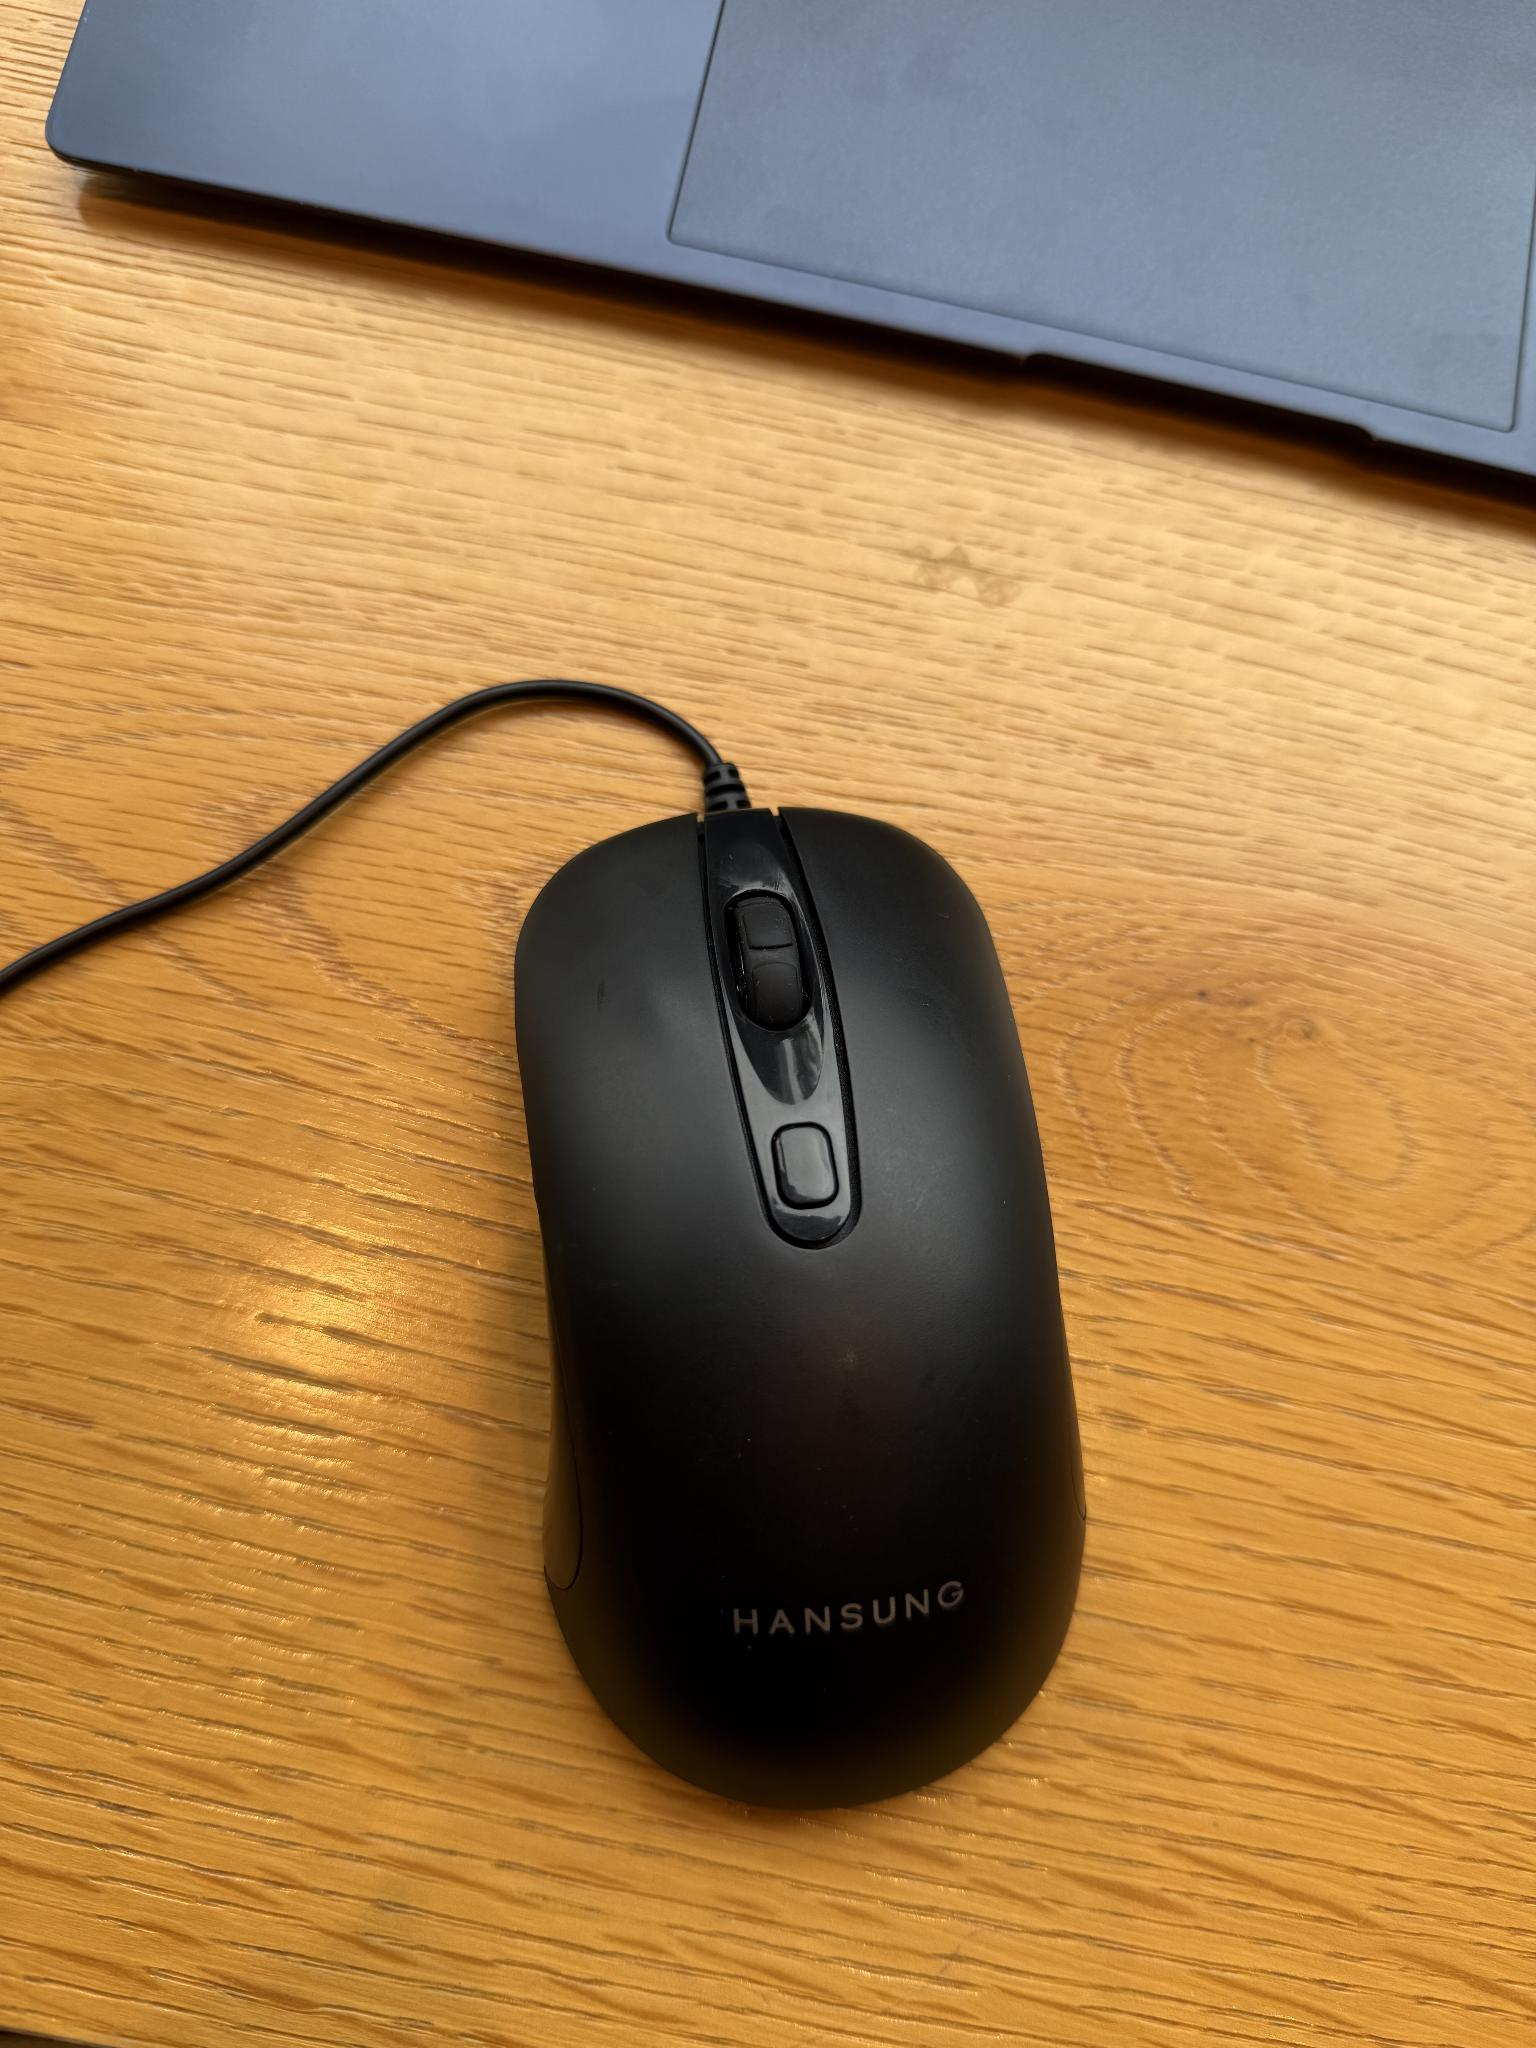front: (510, 806, 1083, 1817)
